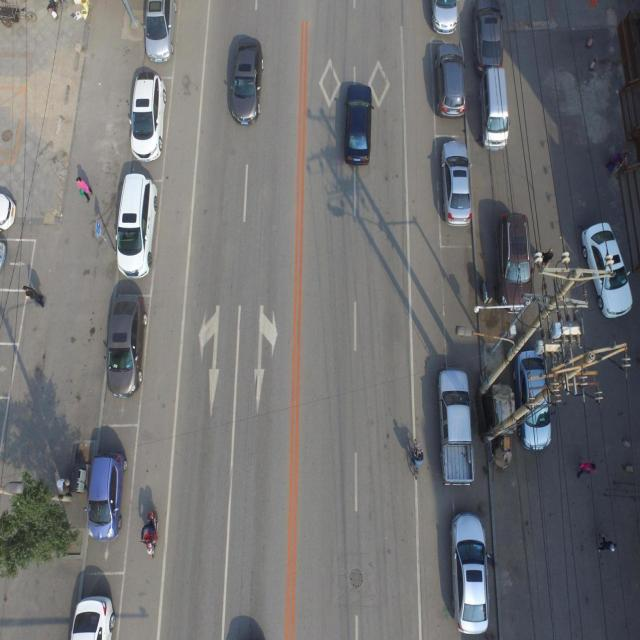p3rson: (22, 284, 44, 308), (75, 175, 92, 202), (597, 533, 616, 552), (576, 461, 596, 478), (541, 248, 553, 272), (411, 447, 424, 467)
